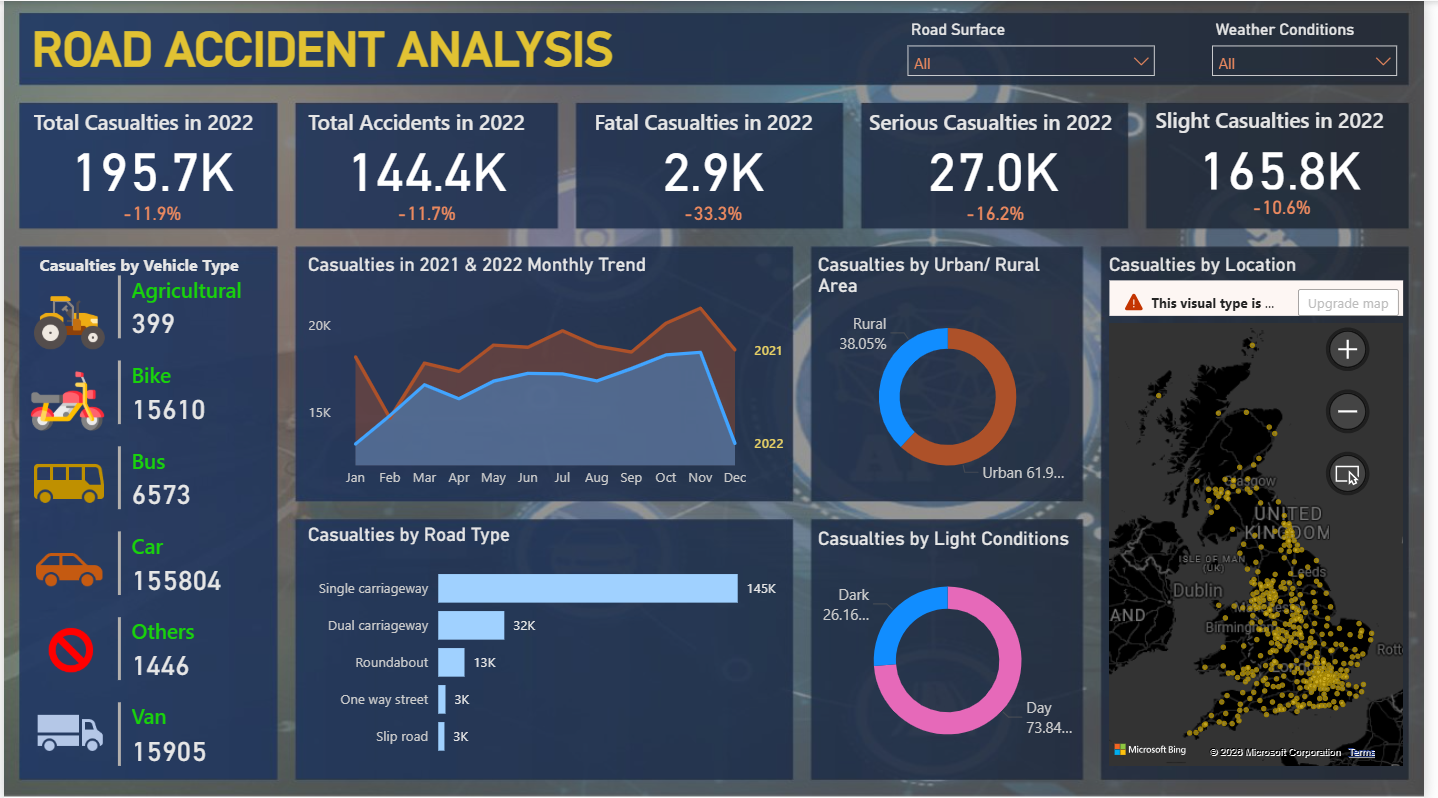

This screenshot's page, from the dashboard's own definition file:
{"tool":"powerbi","page":{"name":"Page 1","canvas":[1280,720],"ordinal":0},"visuals":[{"type":"card","title":"Slight Casualties in 2022","fields":{"Values":["Data.CY Casualties"]},"box":[1032.4,94.6,233.5,80.6],"z":0,"group":"g5"},{"type":"group","id":"g1","title":"Group 1","box":[21.7,95.4,222.7,131.6],"z":0},{"type":"card","title":"Total Casualties in 2022","fields":{"Values":["Data.CY Casualties"]},"box":[21.7,95.4,223.4,80.6],"z":0,"group":"g1"},{"type":"card","title":"Total Accidents in 2022","fields":{"Values":["Data.CY Accidents"]},"box":[268.8,95.7,223.4,80.6],"z":0,"group":"g2"},{"type":"card","title":"Fatal Casualties in 2022","fields":{"Values":["Data.CY Casualties"]},"box":[527.5,95.7,223.4,80.6],"z":0,"group":"g3"},{"type":"card","title":"Serious Casualties in 2022","fields":{"Values":["Data.CY Casualties"]},"box":[774.3,95.9,233.5,80.6],"z":0,"group":"g4"},{"type":"group","id":"g2","title":"Group 1","box":[268.8,95.7,223.4,131],"z":1000},{"type":"card","fields":{"Values":["Data.YoY Casualties"]},"box":[1117.1,151.1,65.5,70.6],"z":1000,"group":"g5"},{"type":"card","fields":{"Values":["Data.YoY Casualties"]},"box":[100.7,155.9,65.5,70.6],"z":1000,"group":"g1"},{"type":"card","fields":{"Values":["Data.YoY Accidents"]},"box":[347.8,156.2,65.5,70.6],"z":1000,"group":"g2"},{"type":"card","fields":{"Values":["Data.YoY Casualties"]},"box":[606.5,156.2,65.5,70.6],"z":1000,"group":"g3"},{"type":"card","fields":{"Values":["Data.YoY Casualties"]},"box":[860,156.2,65.5,70.6],"z":1000,"group":"g4"},{"type":"group","id":"g3","title":"Group 1","box":[527.5,95.7,223.4,131],"z":2000},{"type":"group","id":"g4","title":"Group 1","box":[774.3,95.9,233.5,130.9],"z":3000},{"type":"group","id":"g5","title":"Group 1","box":[1032.4,94.6,233.5,127],"z":4000},{"type":"textbox","box":[20.2,11.6,653.5,62.2],"z":5000},{"type":"multiRowCard","fields":{"Values":["Data.Vehicle_Type (groups)","Data.CY Casualties"]},"box":[97.4,241.9,144.5,478.7],"z":6000},{"type":"image","box":[18.8,326.7,76.6,66.5],"z":7000},{"type":"image","box":[18.5,399.8,79,68.9],"z":8000},{"type":"image","box":[10.1,480.4,99.1,65.5],"z":9000},{"type":"image","box":[18.5,559.4,82.3,50.4],"z":10000},{"type":"image","box":[21.8,626.6,75.6,63.8],"z":11000},{"type":"image","box":[15.9,255.9,85.3,68],"z":12000},{"type":"textbox","box":[27.5,221.2,209.6,34.7],"z":13000},{"type":"areaChart","title":"Casualties in 2021 & 2022 Monthly Trend","fields":{"Category":["Calendar.Month"],"Y":["Sum(Data.Number_of_Casualties)"],"Series":["Calendar.Date.Variation.Date Hierarchy.Year"]},"box":[268.8,226.8,438.4,220.1],"z":14000},{"type":"donutChart","title":"Casualties by Urban/ Rural Area","fields":{"Category":["Data.Urban_or_Rural_Area"],"Y":["Data.CY Casualties"]},"box":[728.7,227,242.9,219.8],"z":15000},{"type":"donutChart","title":"Casualties by Light Conditions","fields":{"Y":["Data.CY Casualties"],"Category":["Data.Light_Conditions (groups)"]},"box":[728.7,474.2,242.9,219.8],"z":16000},{"type":"barChart","title":"Casualties by Road Type","fields":{"Category":["Data.Road_Type"],"Y":["Data.CY Casualties"]},"box":[268.9,469.9,438.1,224.1],"z":17000},{"type":"map","title":"Casualties by Location","fields":{"X":["Data.Longitude"],"Y":["Data.Latitude"],"Category":["Data.Local_Authority_(District)"]},"box":[990.4,227,274.7,467],"z":17001},{"type":"slicer","fields":{"Values":["Data.Weather_Conditions (groups)"]},"box":[1078.6,11.6,186.5,62.2],"z":17002},{"type":"slicer","fields":{"Values":["Data.Road_Surface_Conditions (groups)"]},"box":[803.9,11.6,242.9,62.2],"z":17003}]}

Visuals, with their boxes in screenshot pixels (x1, y1, x2, y2), scaled from the page's 1280x720 canvas onto the 1438x798 screenshot:
"Slight Casualties in 2022" card: x1=1160 y1=105 x2=1422 y2=194
"Group 1" group: x1=24 y1=106 x2=275 y2=252
"Total Casualties in 2022" card: x1=24 y1=106 x2=275 y2=195
"Total Accidents in 2022" card: x1=302 y1=106 x2=553 y2=195
"Fatal Casualties in 2022" card: x1=593 y1=106 x2=844 y2=195
"Serious Casualties in 2022" card: x1=870 y1=106 x2=1132 y2=196
"Group 1" group: x1=302 y1=106 x2=553 y2=251
card - Data.YoY Casualties: x1=1255 y1=167 x2=1329 y2=246
card - Data.YoY Casualties: x1=113 y1=173 x2=187 y2=251
card - Data.YoY Accidents: x1=391 y1=173 x2=464 y2=251
card - Data.YoY Casualties: x1=681 y1=173 x2=755 y2=251
card - Data.YoY Casualties: x1=966 y1=173 x2=1040 y2=251
"Group 1" group: x1=593 y1=106 x2=844 y2=251
"Group 1" group: x1=870 y1=106 x2=1132 y2=251
"Group 1" group: x1=1160 y1=105 x2=1422 y2=246
textbox: x1=23 y1=13 x2=757 y2=82
multiRowCard - Data.Vehicle_Type (groups) x Data.CY Casualties: x1=109 y1=268 x2=272 y2=797
image: x1=21 y1=362 x2=107 y2=436
image: x1=21 y1=443 x2=110 y2=519
image: x1=11 y1=532 x2=123 y2=605
image: x1=21 y1=620 x2=113 y2=676
image: x1=24 y1=694 x2=109 y2=765
image: x1=18 y1=284 x2=114 y2=359
textbox: x1=31 y1=245 x2=266 y2=284
"Casualties in 2021 & 2022 Monthly Trend" areaChart: x1=302 y1=251 x2=794 y2=495
"Casualties by Urban/ Rural Area" donutChart: x1=819 y1=252 x2=1092 y2=495
"Casualties by Light Conditions" donutChart: x1=819 y1=526 x2=1092 y2=769
"Casualties by Road Type" barChart: x1=302 y1=521 x2=794 y2=769
"Casualties by Location" map: x1=1113 y1=252 x2=1421 y2=769
slicer - Data.Weather_Conditions (groups): x1=1212 y1=13 x2=1421 y2=82
slicer - Data.Road_Surface_Conditions (groups): x1=903 y1=13 x2=1176 y2=82
